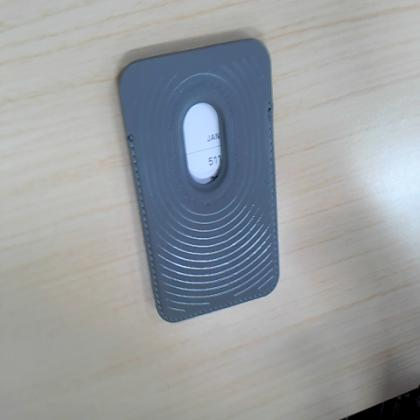pics: (119, 39, 279, 321)
